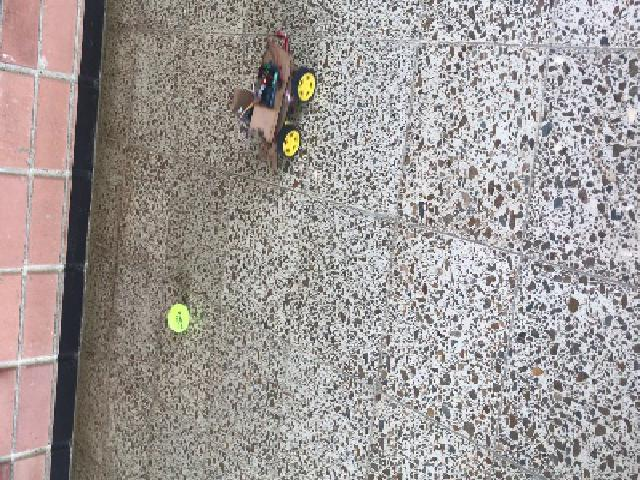Ball: (165, 304, 187, 332)
Robot: (230, 30, 315, 167)
